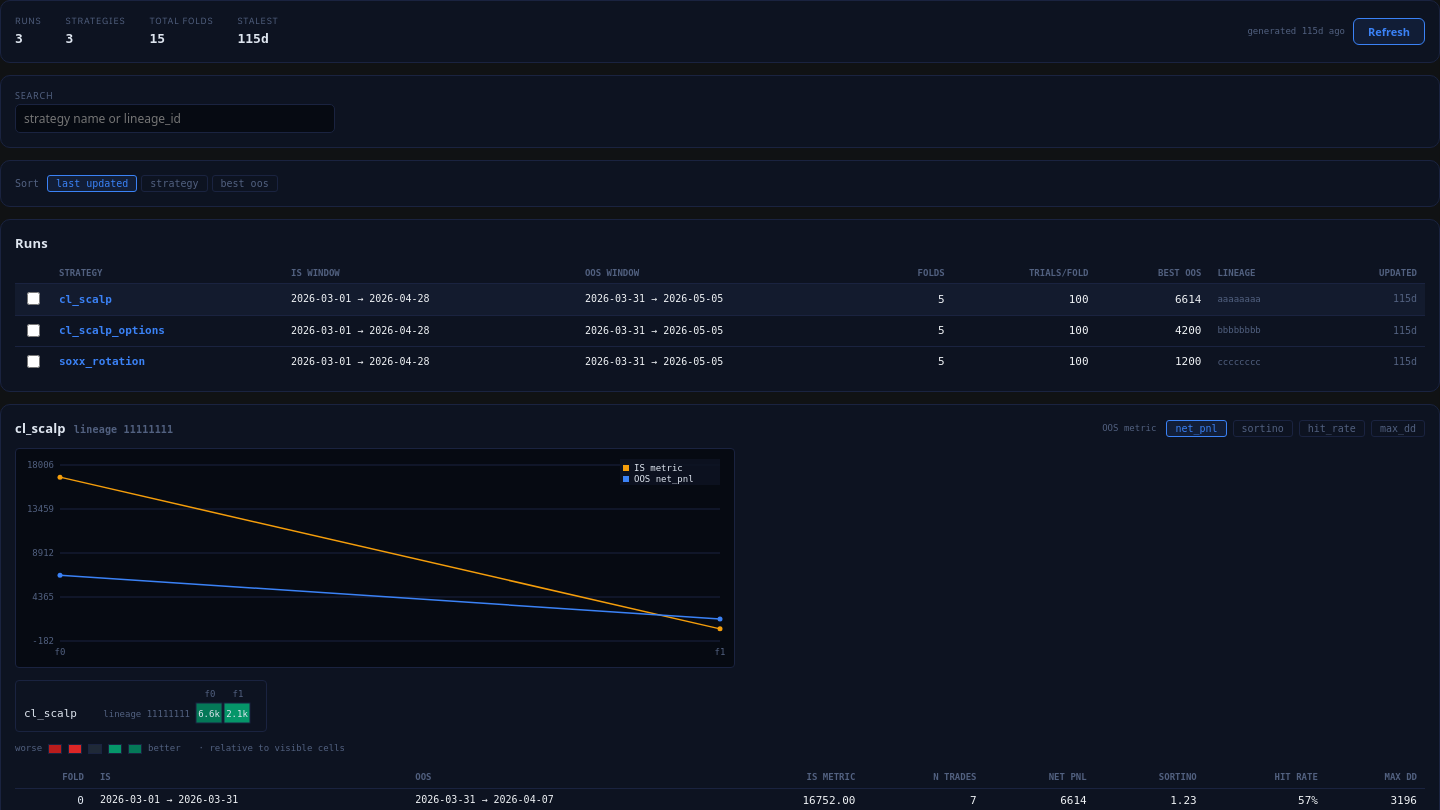
Test: BacktestsTab › clearing the input restores the full list
Type "soxx" into the field with placeholder "strategy name or lineage_id" at (175, 119), box x1=15 y1=104 x2=335 y2=133
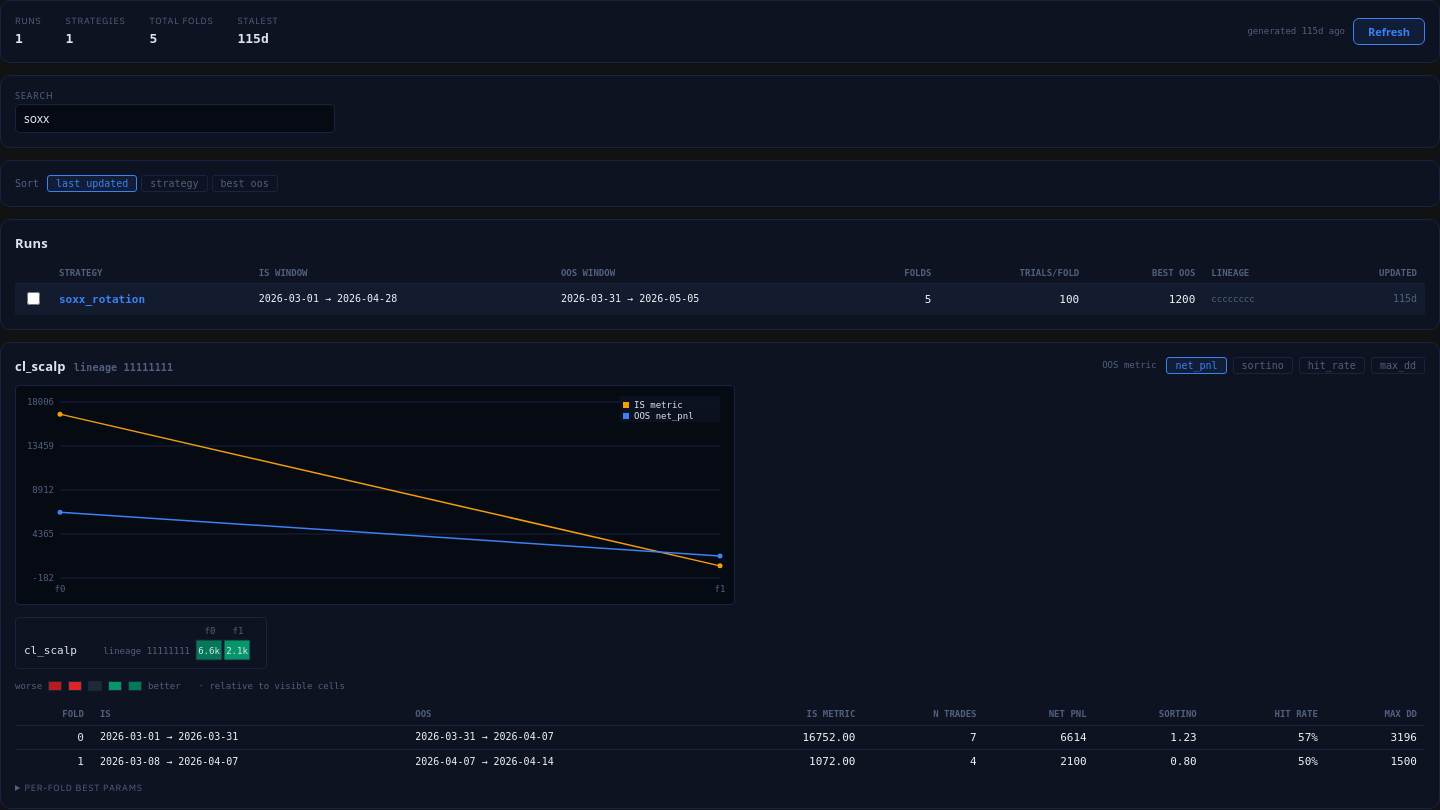
Clear the field with placeholder "strategy name or lineage_id" at (175, 119), box x1=15 y1=104 x2=335 y2=133
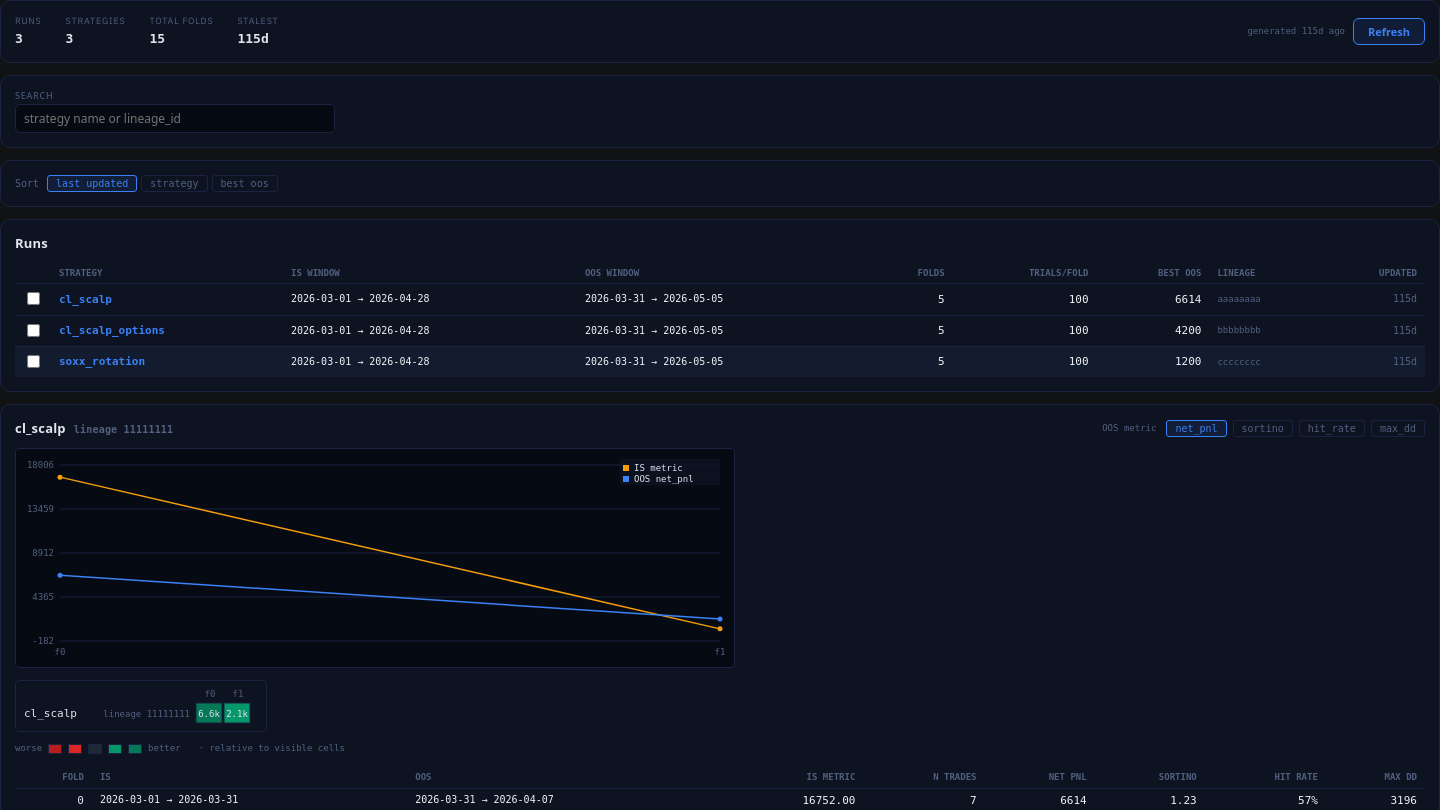
Expected: the checkbox named "Compare soxx_rotation" is shown, x1=27 y1=355 x2=40 y2=368
Now the checkbox named "Compare cl_scalp_options" is shown, box x1=27 y1=324 x2=40 y2=336
